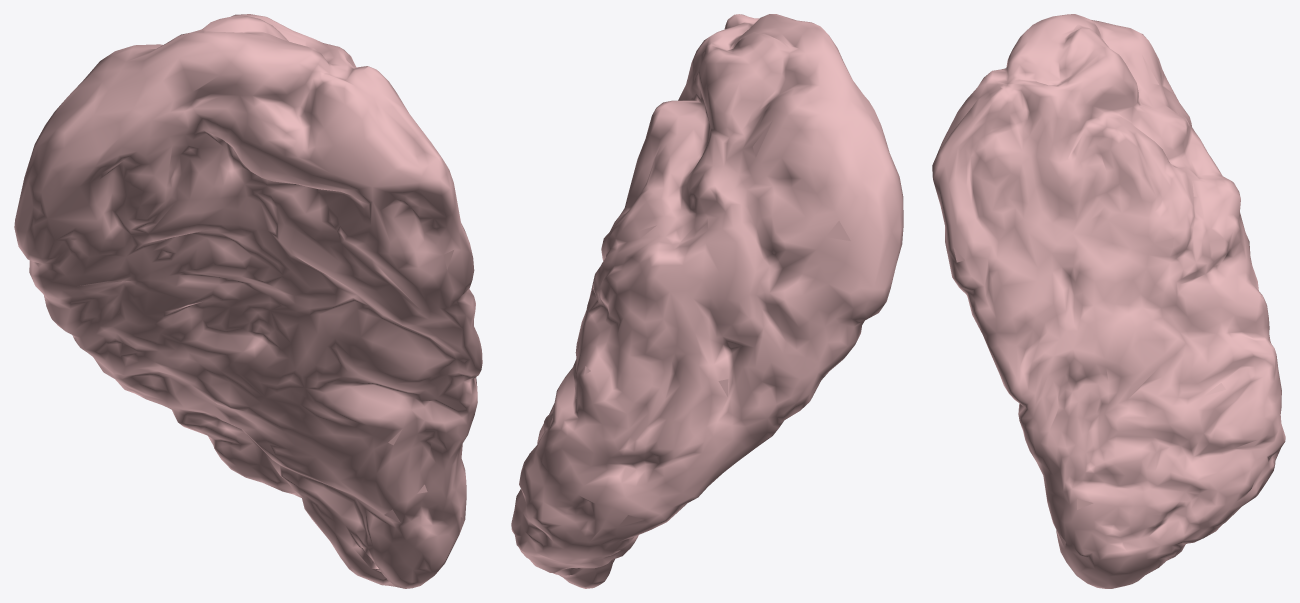
Rendered from 3d-vh-m-palatine-tonsil-l-40.glb.
3 views of the same model, side by side, from view 1: azimuth 30°, elevation 25°; view 2: azimuth 150°, elevation 25°; view 3: azimuth 270°, elevation 25° (orthographic). The views are drawn at different scales.
Visible parts, largest first — view 1: VH_M_palatine_tonsil_L; view 2: VH_M_palatine_tonsil_L; view 3: VH_M_palatine_tonsil_L.
Boxes of the visible parts, x1=… form: VH_M_palatine_tonsil_L: x1=14, y1=14, x2=482, y2=588; VH_M_palatine_tonsil_L: x1=511, y1=14, x2=903, y2=588; VH_M_palatine_tonsil_L: x1=932, y1=14, x2=1285, y2=588.
Bounding box in the file's own units: 0.0163 × 0.0243 × 0.0159.
